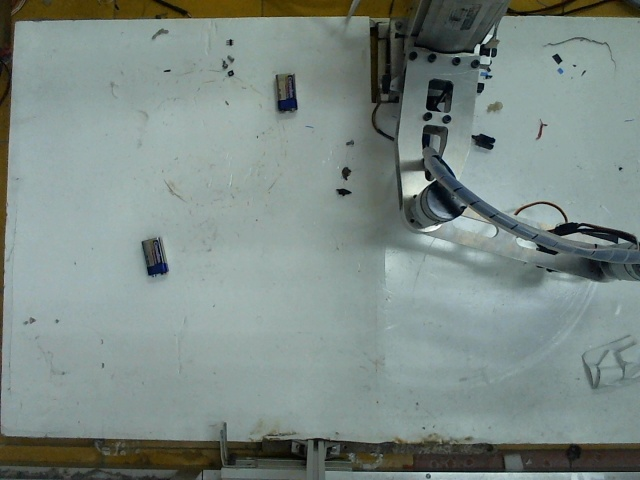battery: (133, 233, 171, 274), (270, 68, 300, 111)
